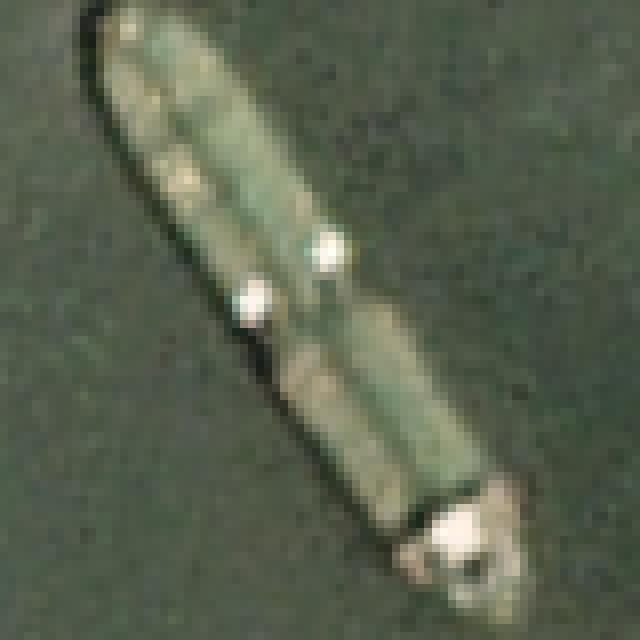ship: (72, 0, 544, 640)
